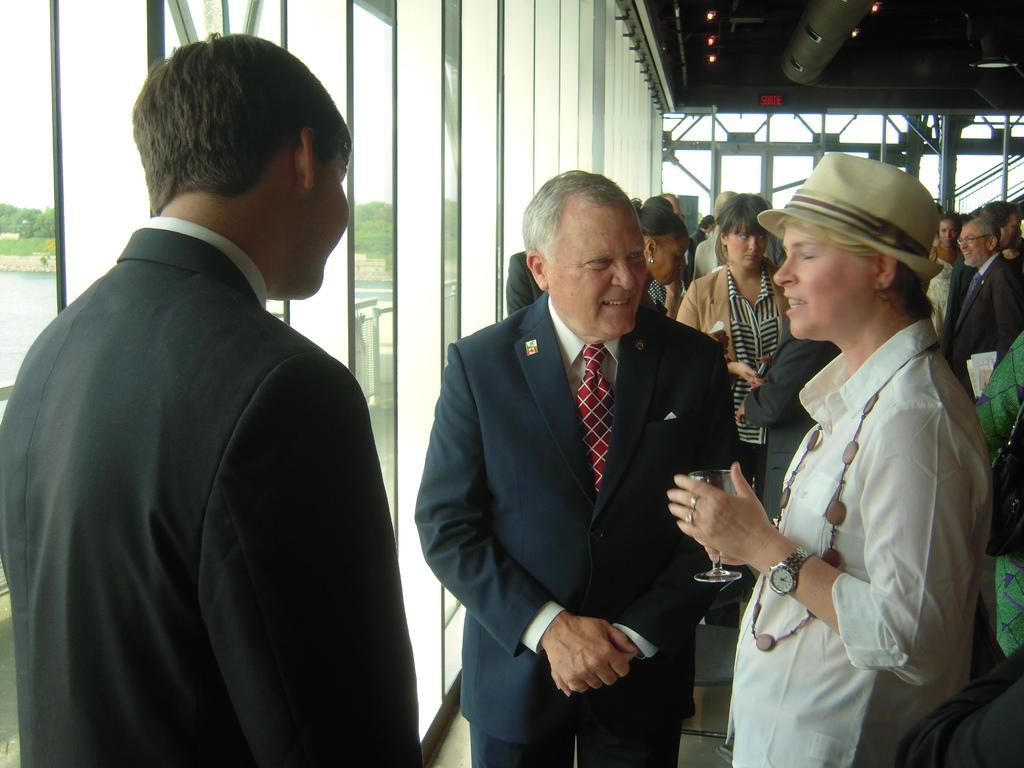Hat: (754, 150, 943, 284)
